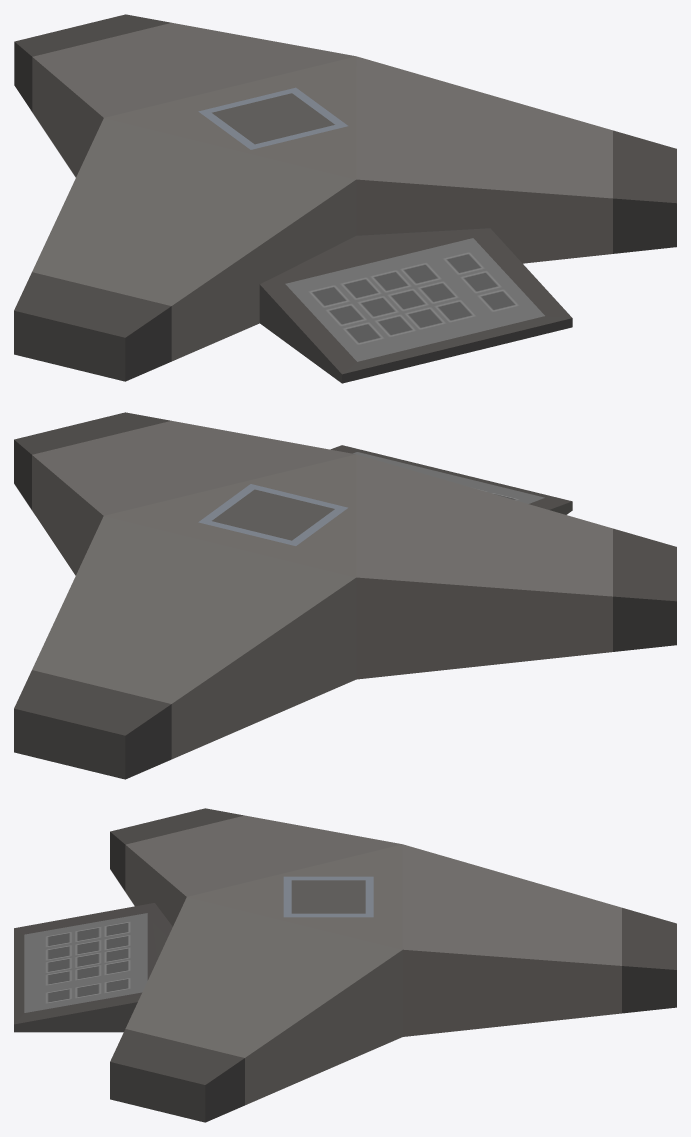
The model's file is ConferencePhone.glb.
3 views of the same model, one above another, from view 1: azimuth 30°, elevation 25°; view 2: azimuth 150°, elevation 25°; view 3: azimuth 270°, elevation 25° (orthographic). The views are drawn at different scales.
Parts seen in each view (by area): view 1: SO_ConferencePhone; view 2: SO_ConferencePhone; view 3: SO_ConferencePhone.
Boxes of the visible parts, x1=… form: SO_ConferencePhone: x1=14, y1=14, x2=676, y2=383; SO_ConferencePhone: x1=14, y1=412, x2=676, y2=779; SO_ConferencePhone: x1=14, y1=808, x2=676, y2=1122.
Size of the model in its own units: 0.00892 by 0.00131 by 0.00903.
Materials: 1 (1 with a texture image).
